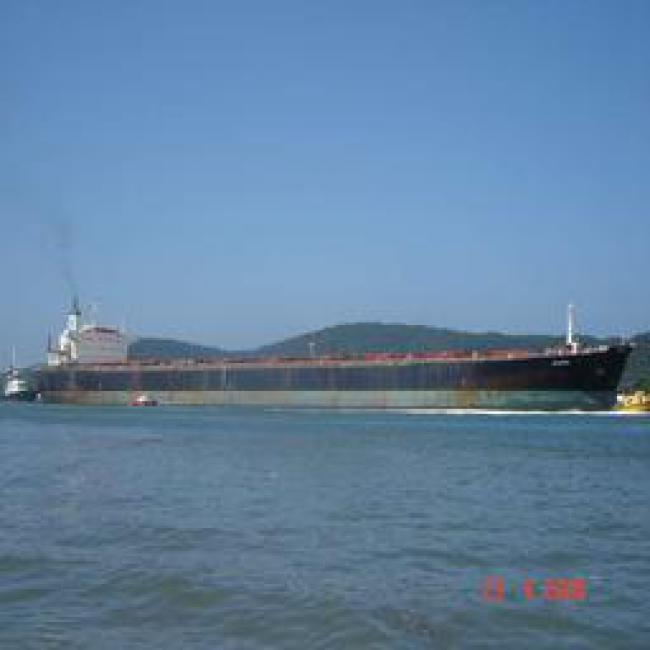Ship: (23, 325, 635, 427)
